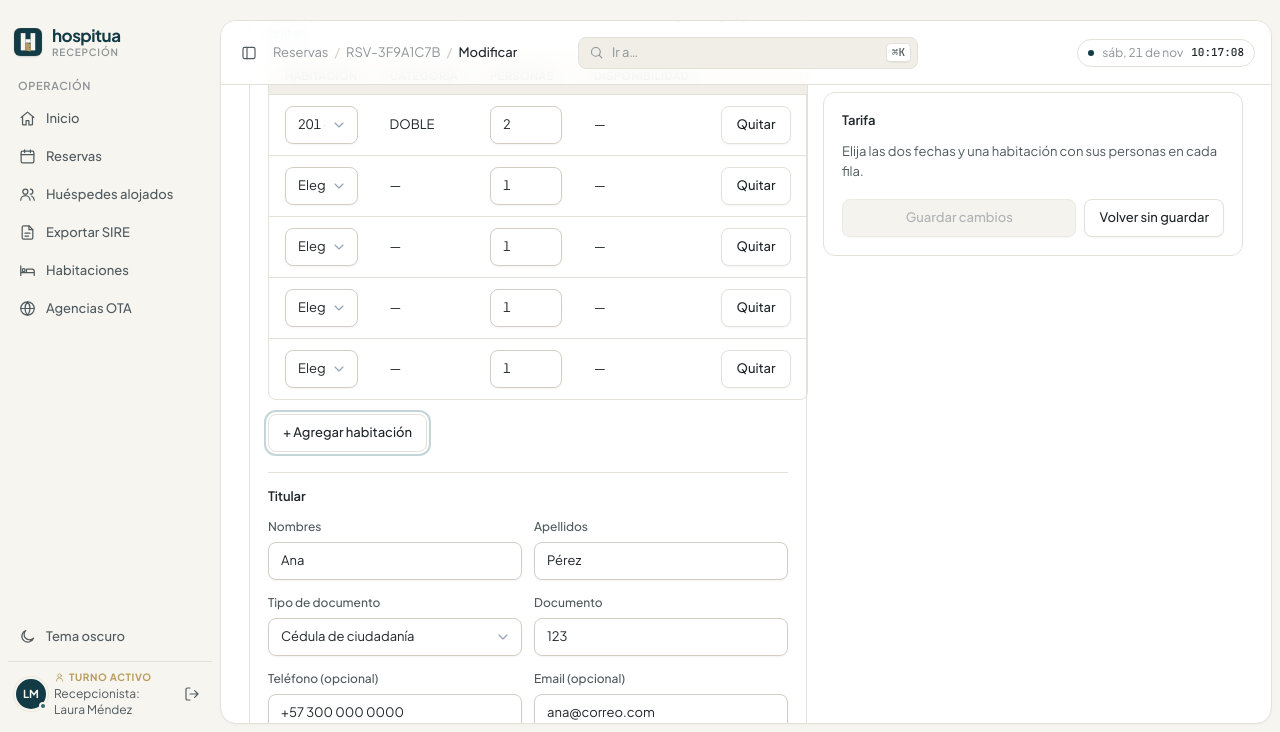
Test: Pantalla "Modificar" (T014 de update-reservation) › agrega y quita filas: nunca menos de 1 ni más de 10
The image size is (1280, 732).
Earlier steps of the test are not shown.
(page scrolled)
Click the button "+ Agregar habitación" at (348, 432), box [268,414,427,452]
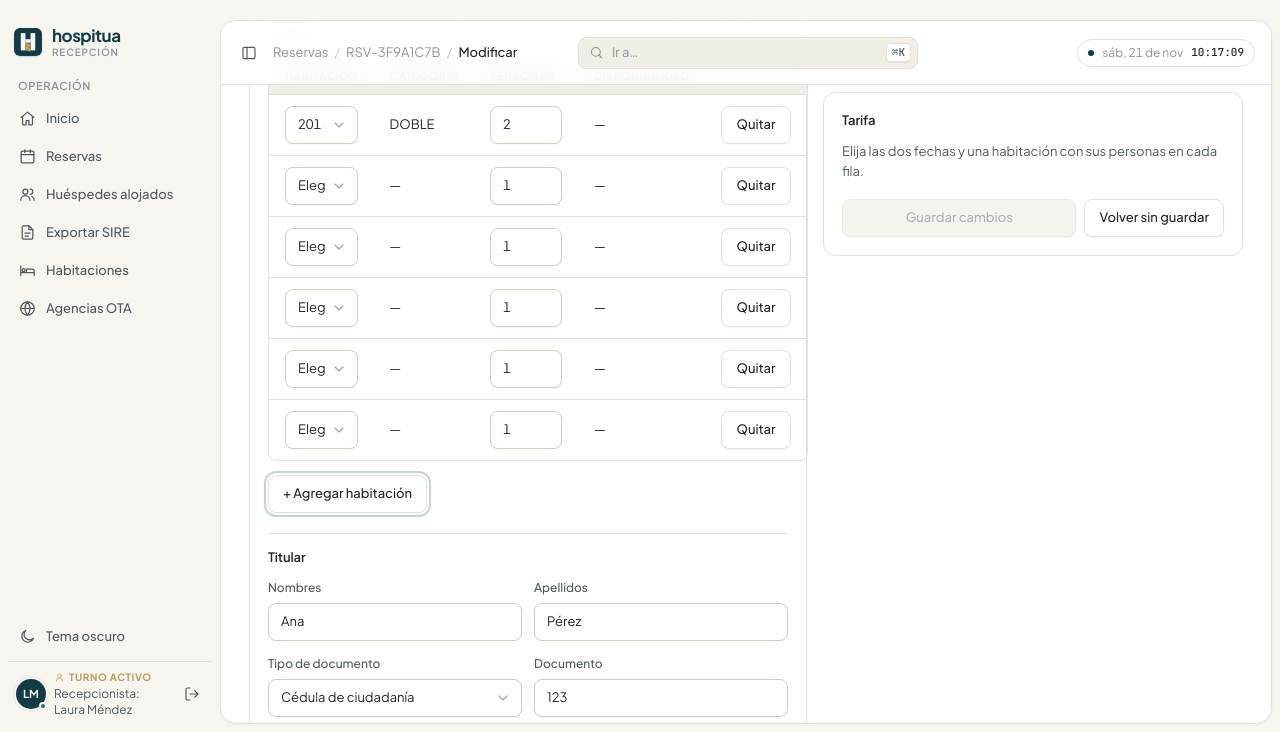
Click the button "+ Agregar habitación" at (348, 494), box [268,474,427,512]
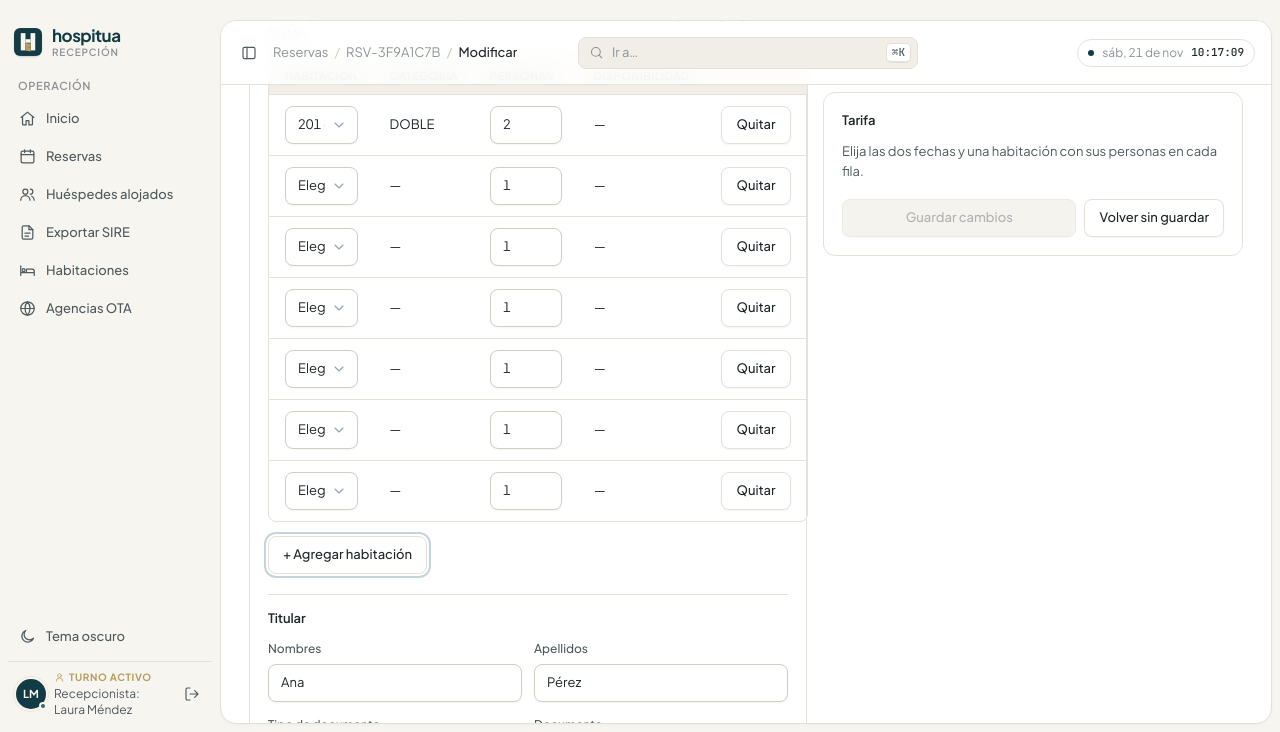
Click the button "+ Agregar habitación" at (348, 554), box [268,536,427,574]
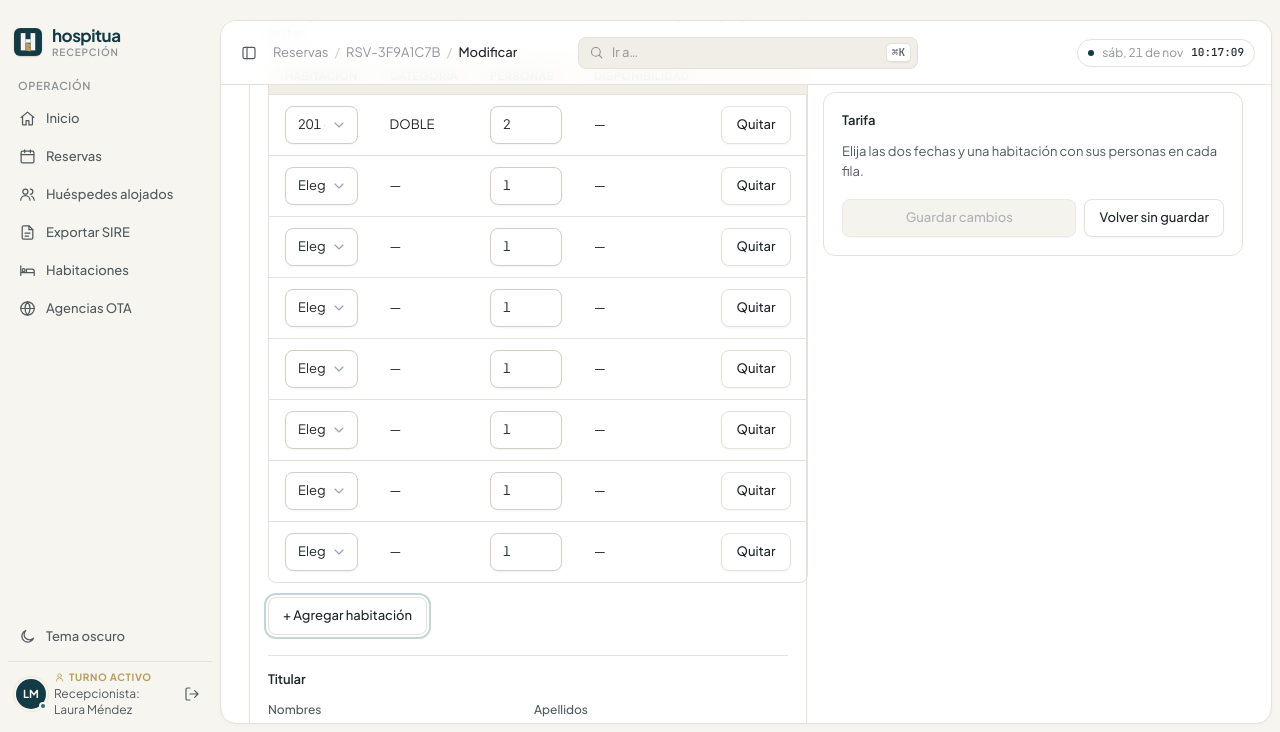
Click the button "+ Agregar habitación" at (348, 616), box [268,596,427,634]
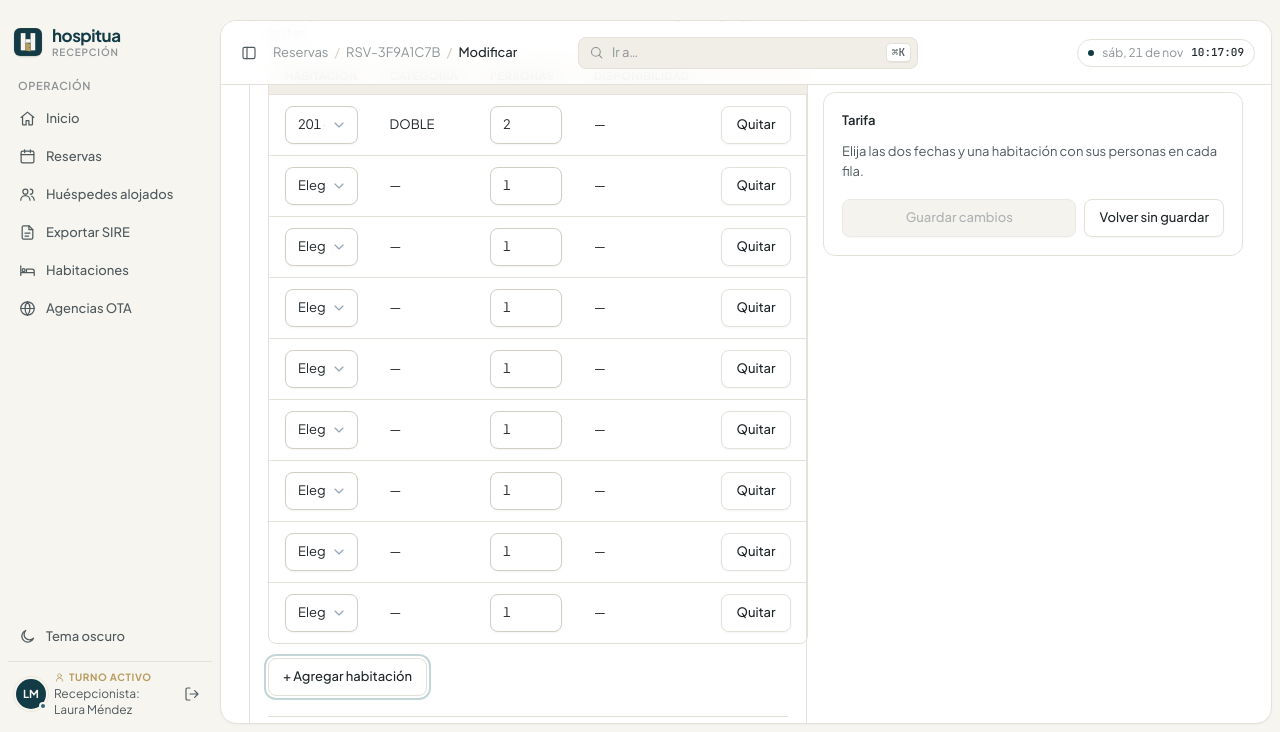
Click the button "+ Agregar habitación" at (348, 676), box [268,658,427,696]
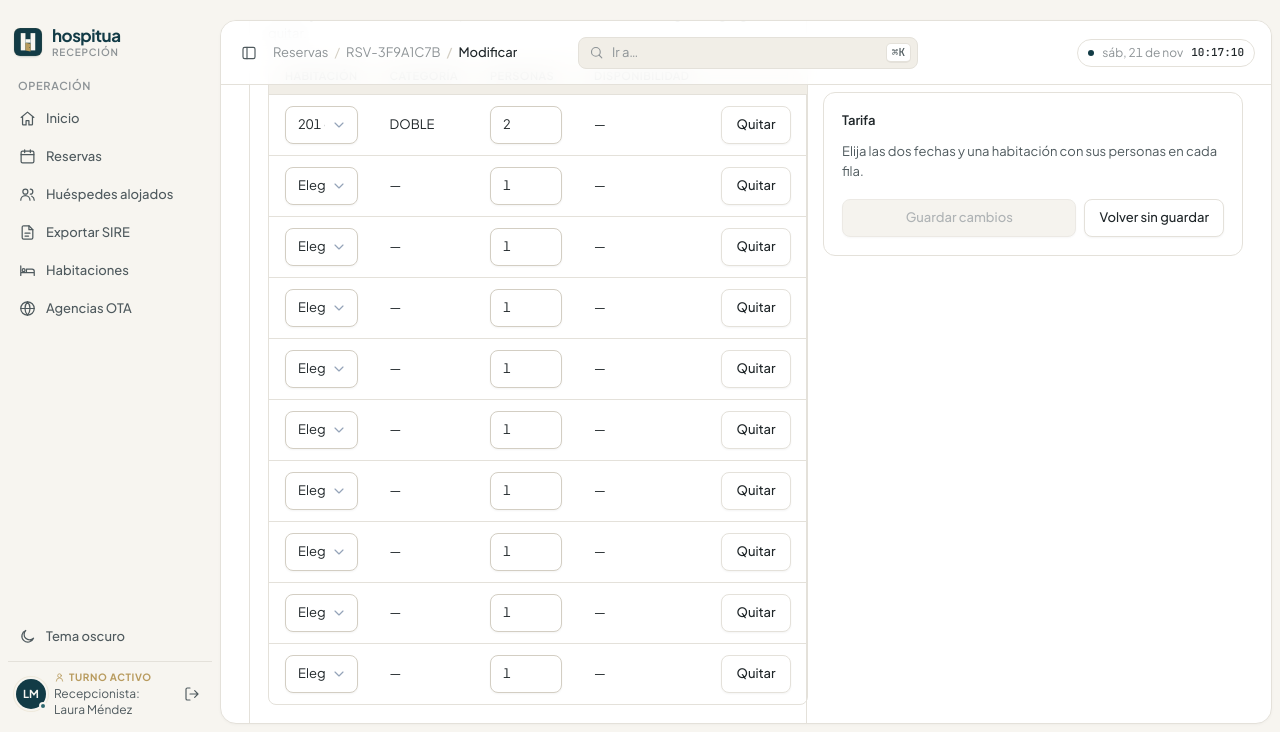
Expected: the dropdown named "Habitación 10" is shown, [285,654,358,692]
Expected: the button "+ Agregar habitación" is gone
Click the button with aria-label "Quitar la habitación 10" at (756, 674), box [722,654,791,692]
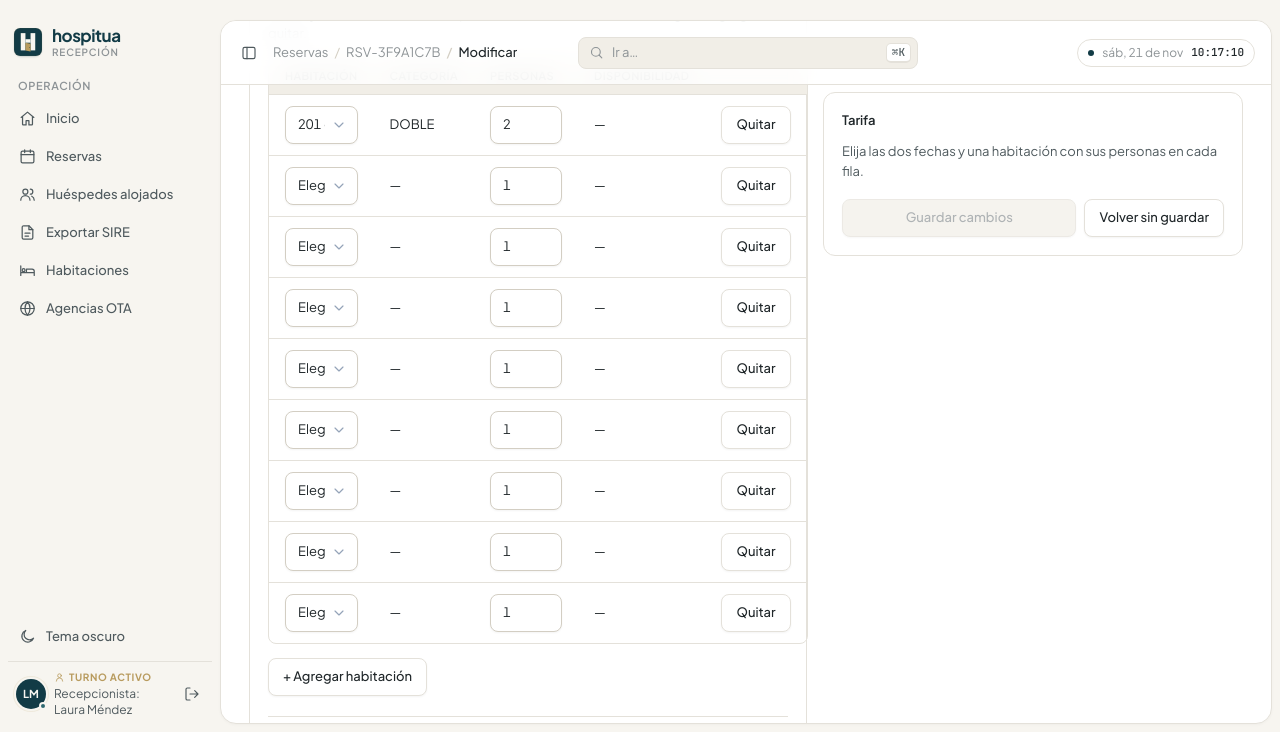
Expected: the button "+ Agregar habitación" is shown, [268,658,427,696]
